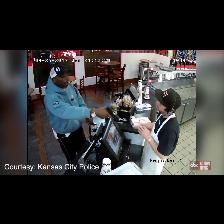person: (44, 65, 111, 164), (137, 89, 181, 174)
